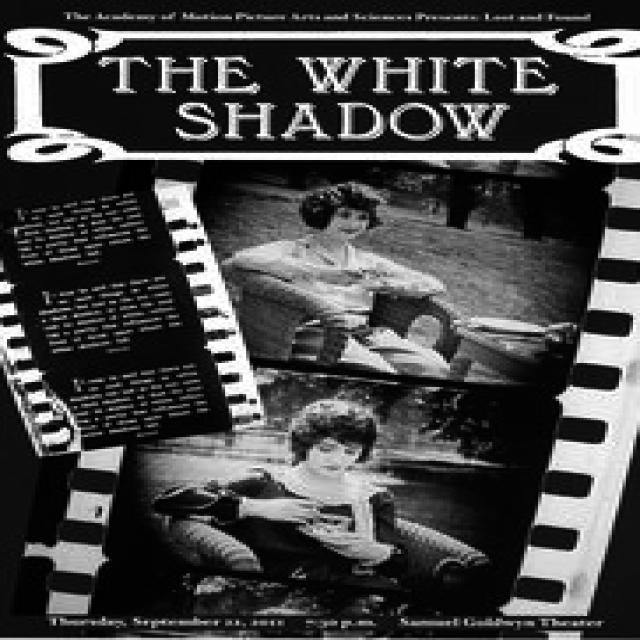movie-judul: (2, 24, 640, 165)
picture: (6, 1, 640, 634)
